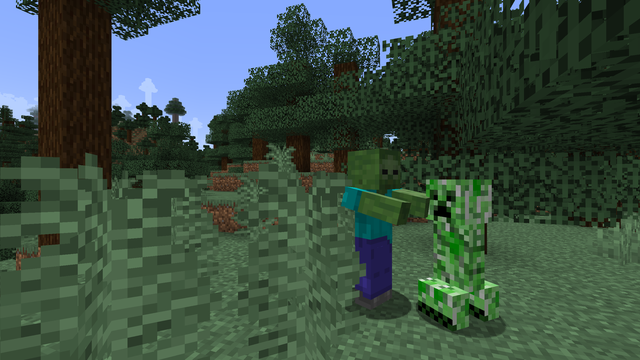creepers: (429, 172, 493, 331)
zombies: (346, 152, 397, 314)
